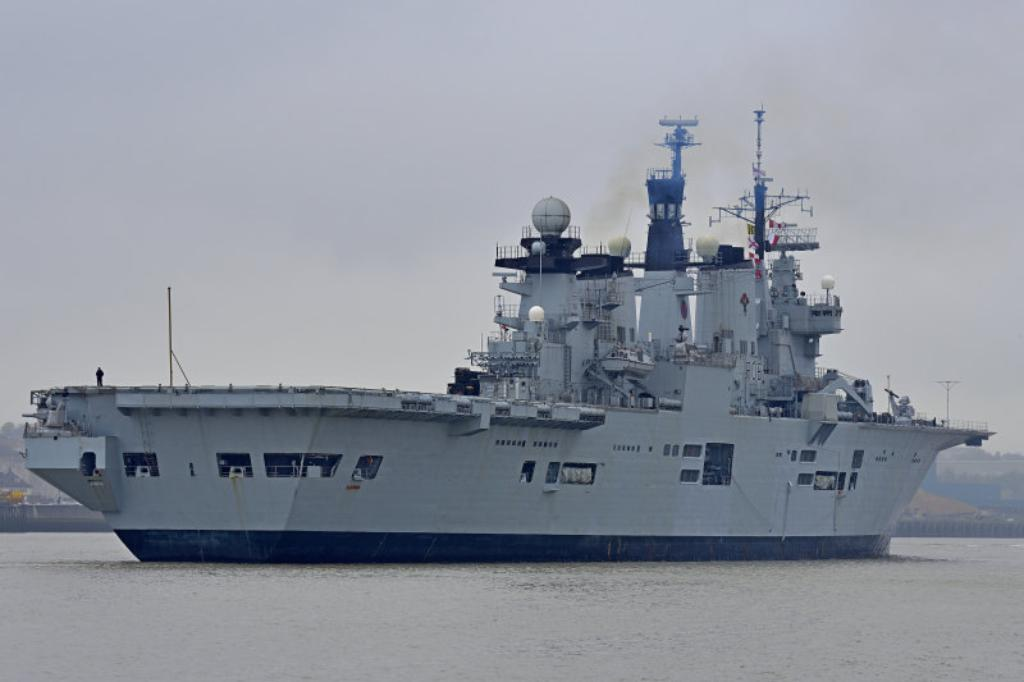Warship: (17, 96, 1001, 574)
